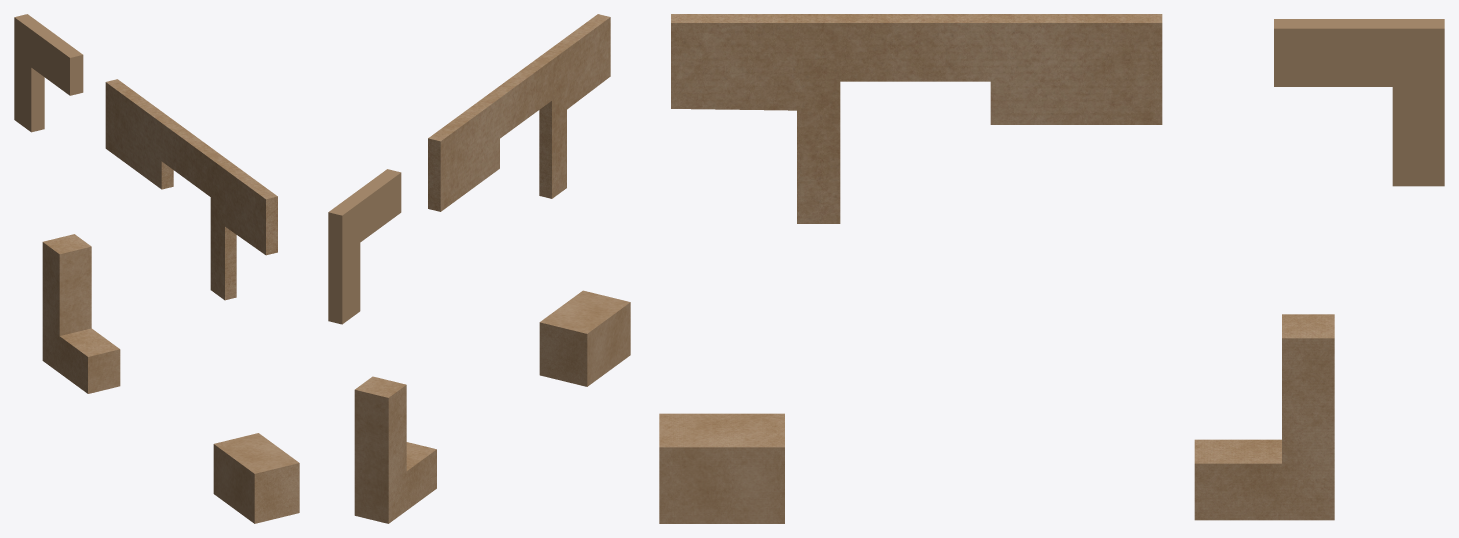
Rendered from Pantalla-1_suelo.fbx.
3 renders of one model, left to right at view 1: azimuth 30°, elevation 25°; view 2: azimuth 150°, elevation 25°; view 3: azimuth 270°, elevation 25°, orthographic. The views are drawn at different scales.
Parts seen in each view (by area): view 1: Nivel 1.001; view 2: Nivel 1.001; view 3: Nivel 1.001.
Part boxes in pixels (x1,y1,x2,y2): Nivel 1.001: (14,14,299,523); Nivel 1.001: (328,14,630,523); Nivel 1.001: (659,14,1444,523).
Size of the model in its own units: 597 by 4036 by 5891.
